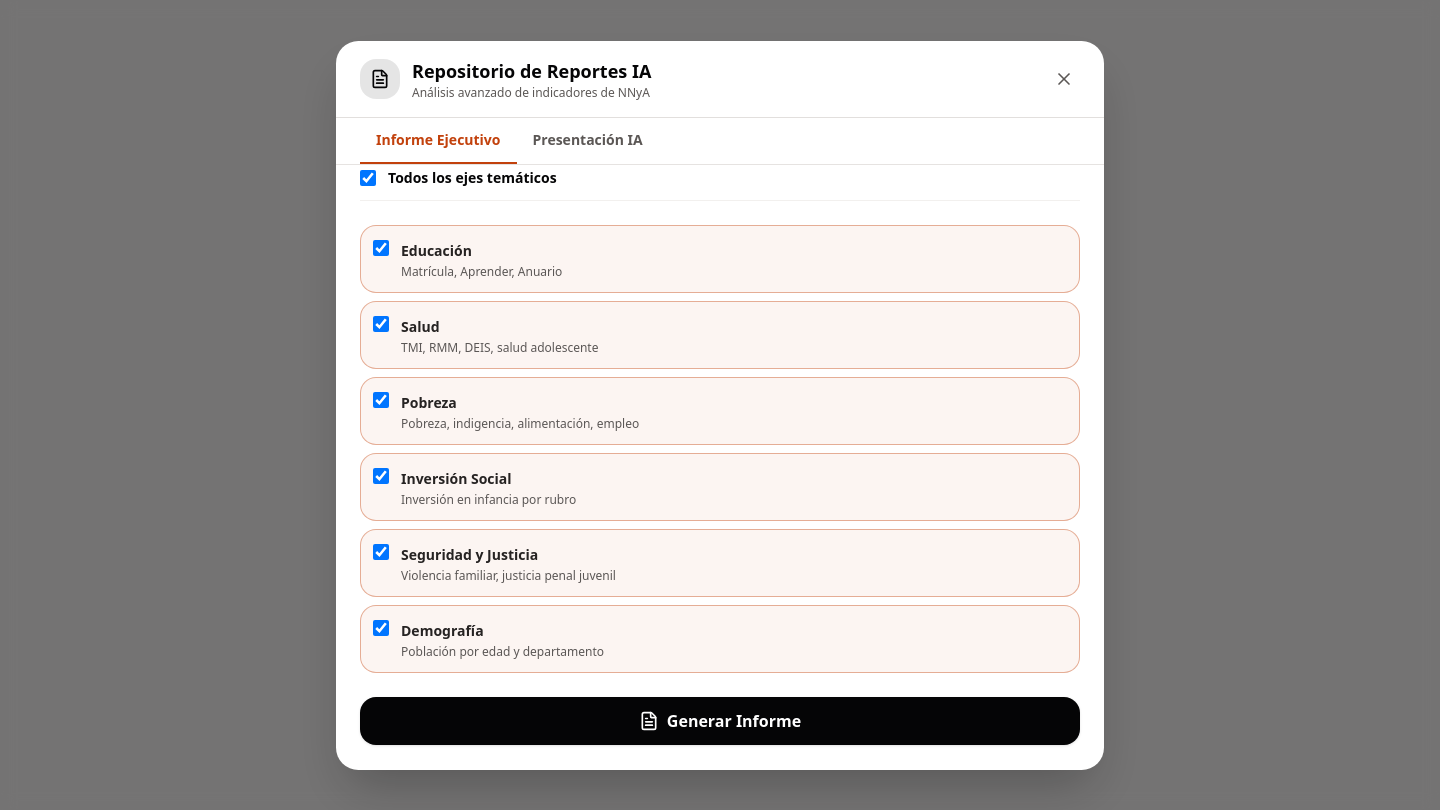
Test case: ReportModal › shows error state when API fails
This screenshot has width=1440, height=810.
(page scrolled)
Click the button "Generar Informe" at (720, 721), box [360,697,1080,745]
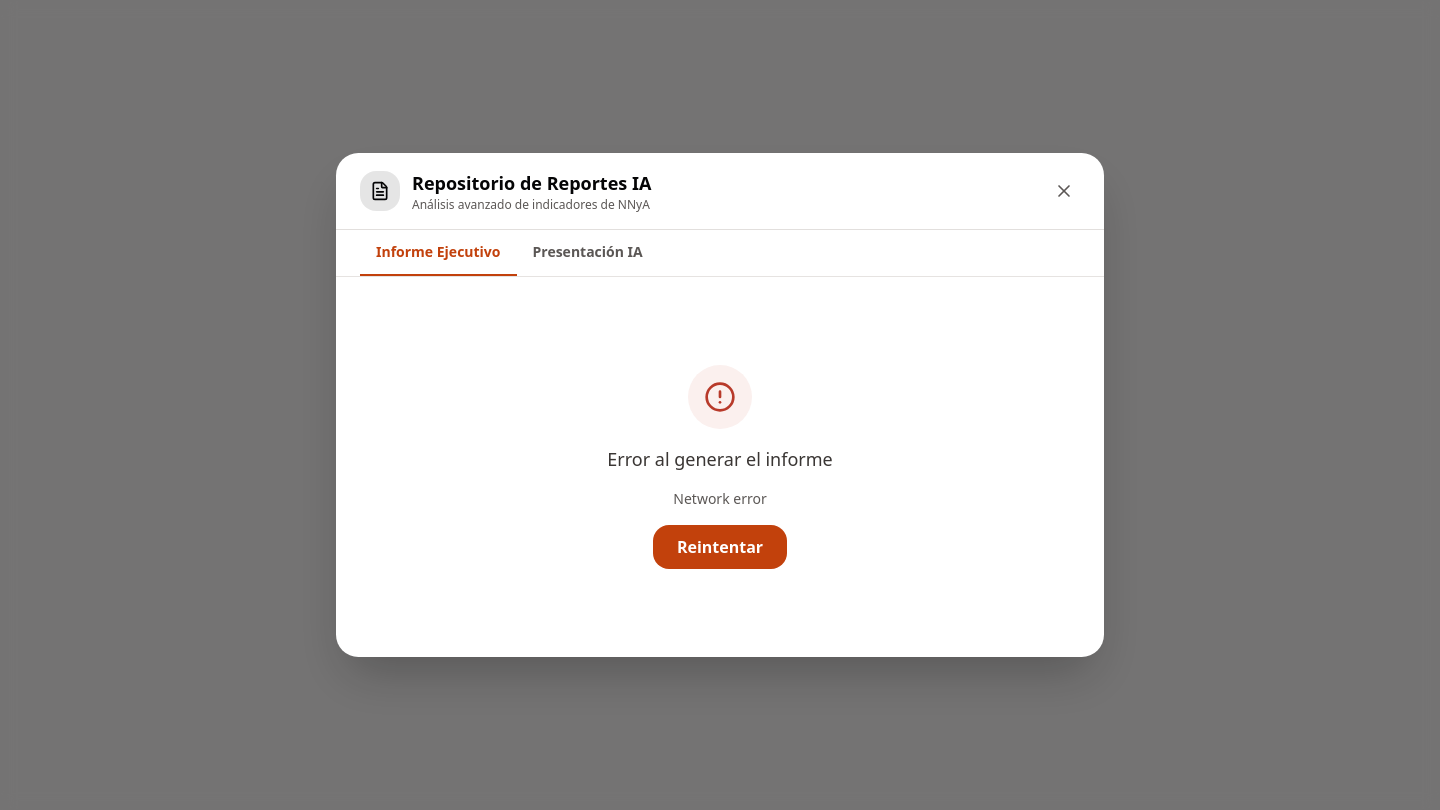
Now the text "Error al generar el informe" is shown, box [607,445,833,473]
Now the button "Reintentar" is shown, box [653,525,787,569]
